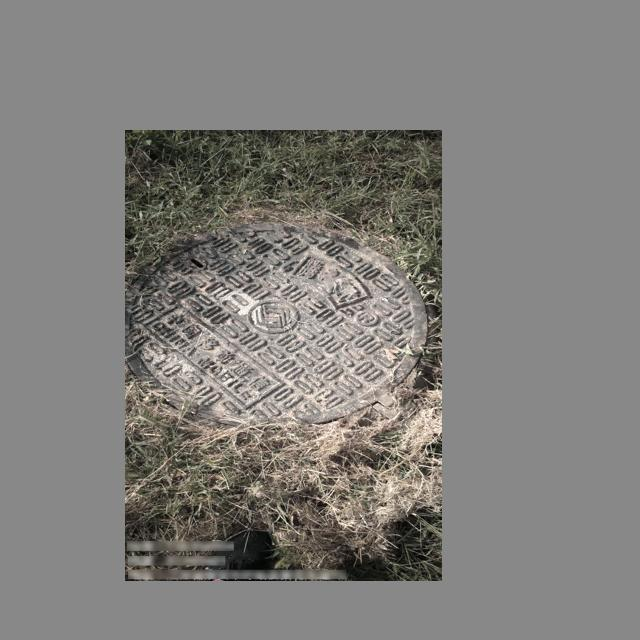good: (129, 223, 429, 428)
